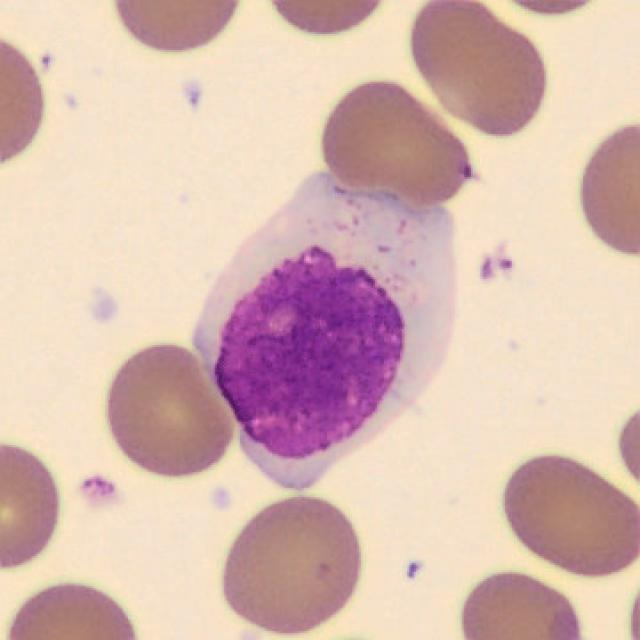Linfocito atipico: (192, 173, 457, 490)
